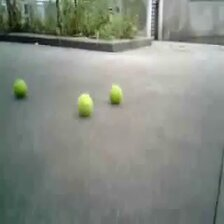tennis: (77, 94, 93, 116), (109, 86, 123, 105), (13, 79, 27, 97)
